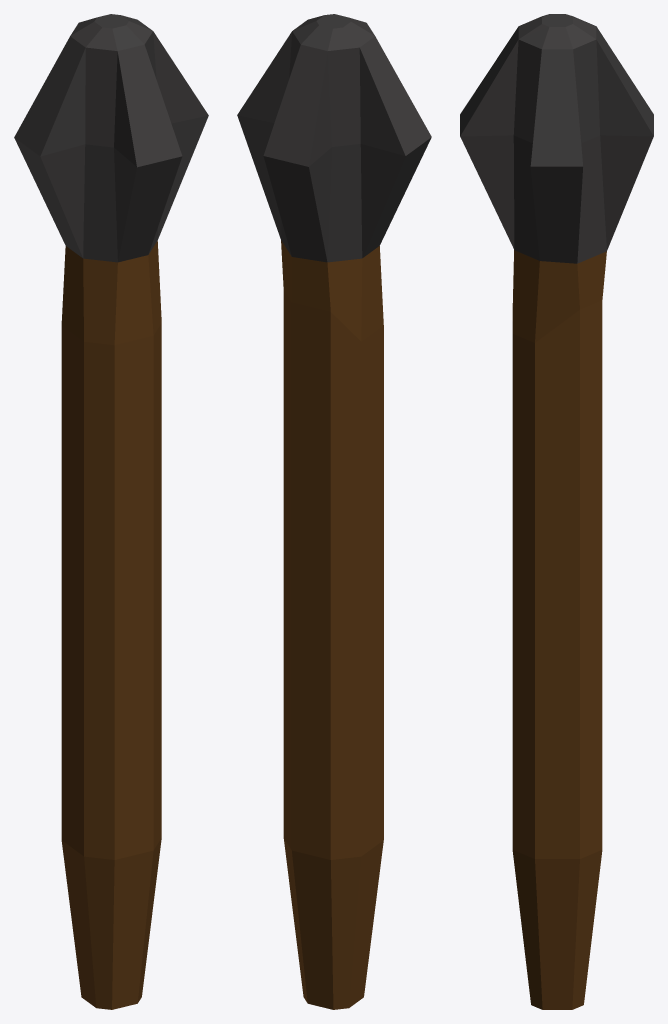
The model's file is IronMace.glb.
3 renders of one model, left to right at view 1: azimuth 30°, elevation 25°; view 2: azimuth 150°, elevation 25°; view 3: azimuth 270°, elevation 25°, orthographic.
Parts seen in each view (by area): view 1: Mace; view 2: Mace; view 3: Mace.
Part boxes in pixels (x1,y1,x2,y2): Mace: (14, 14, 208, 1009); Mace: (237, 14, 431, 1009); Mace: (460, 14, 653, 1009).
Bounding box in the file's own units: 0.1021 × 0.5647 × 0.1013.
